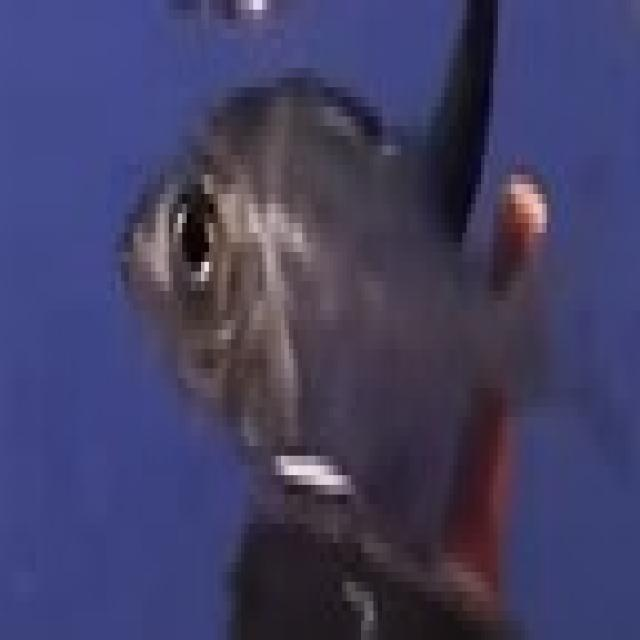Glass-Perchlet: (107, 16, 640, 630)
